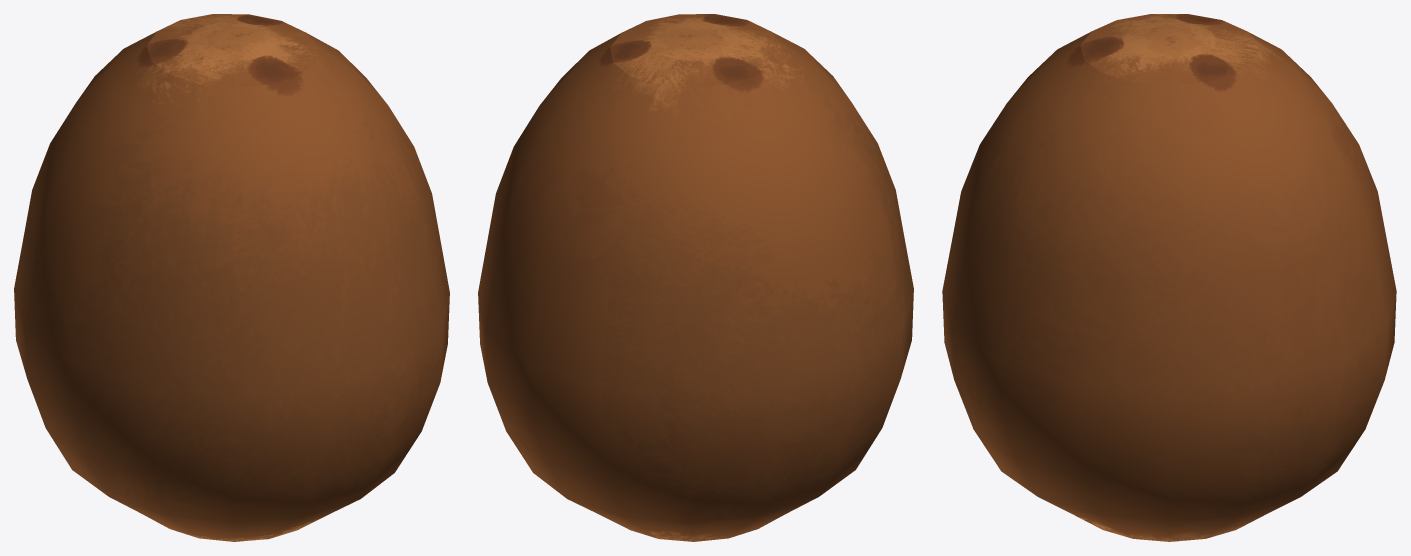
The model's file is Coconut_Brown.fbx.
3 renders of one model, left to right at view 1: azimuth 30°, elevation 25°; view 2: azimuth 150°, elevation 25°; view 3: azimuth 270°, elevation 25°, orthographic.
Visible parts, largest first — view 1: Brown_Coconut1; view 2: Brown_Coconut1; view 3: Brown_Coconut1.
Boxes of the visible parts, x1,y1,x2,y2 form: Brown_Coconut1: (14, 14, 449, 541); Brown_Coconut1: (478, 14, 913, 541); Brown_Coconut1: (942, 14, 1396, 541).
Size of the model in its own units: 2.25 by 2.71 by 2.37.
1 material, 1 textured.
